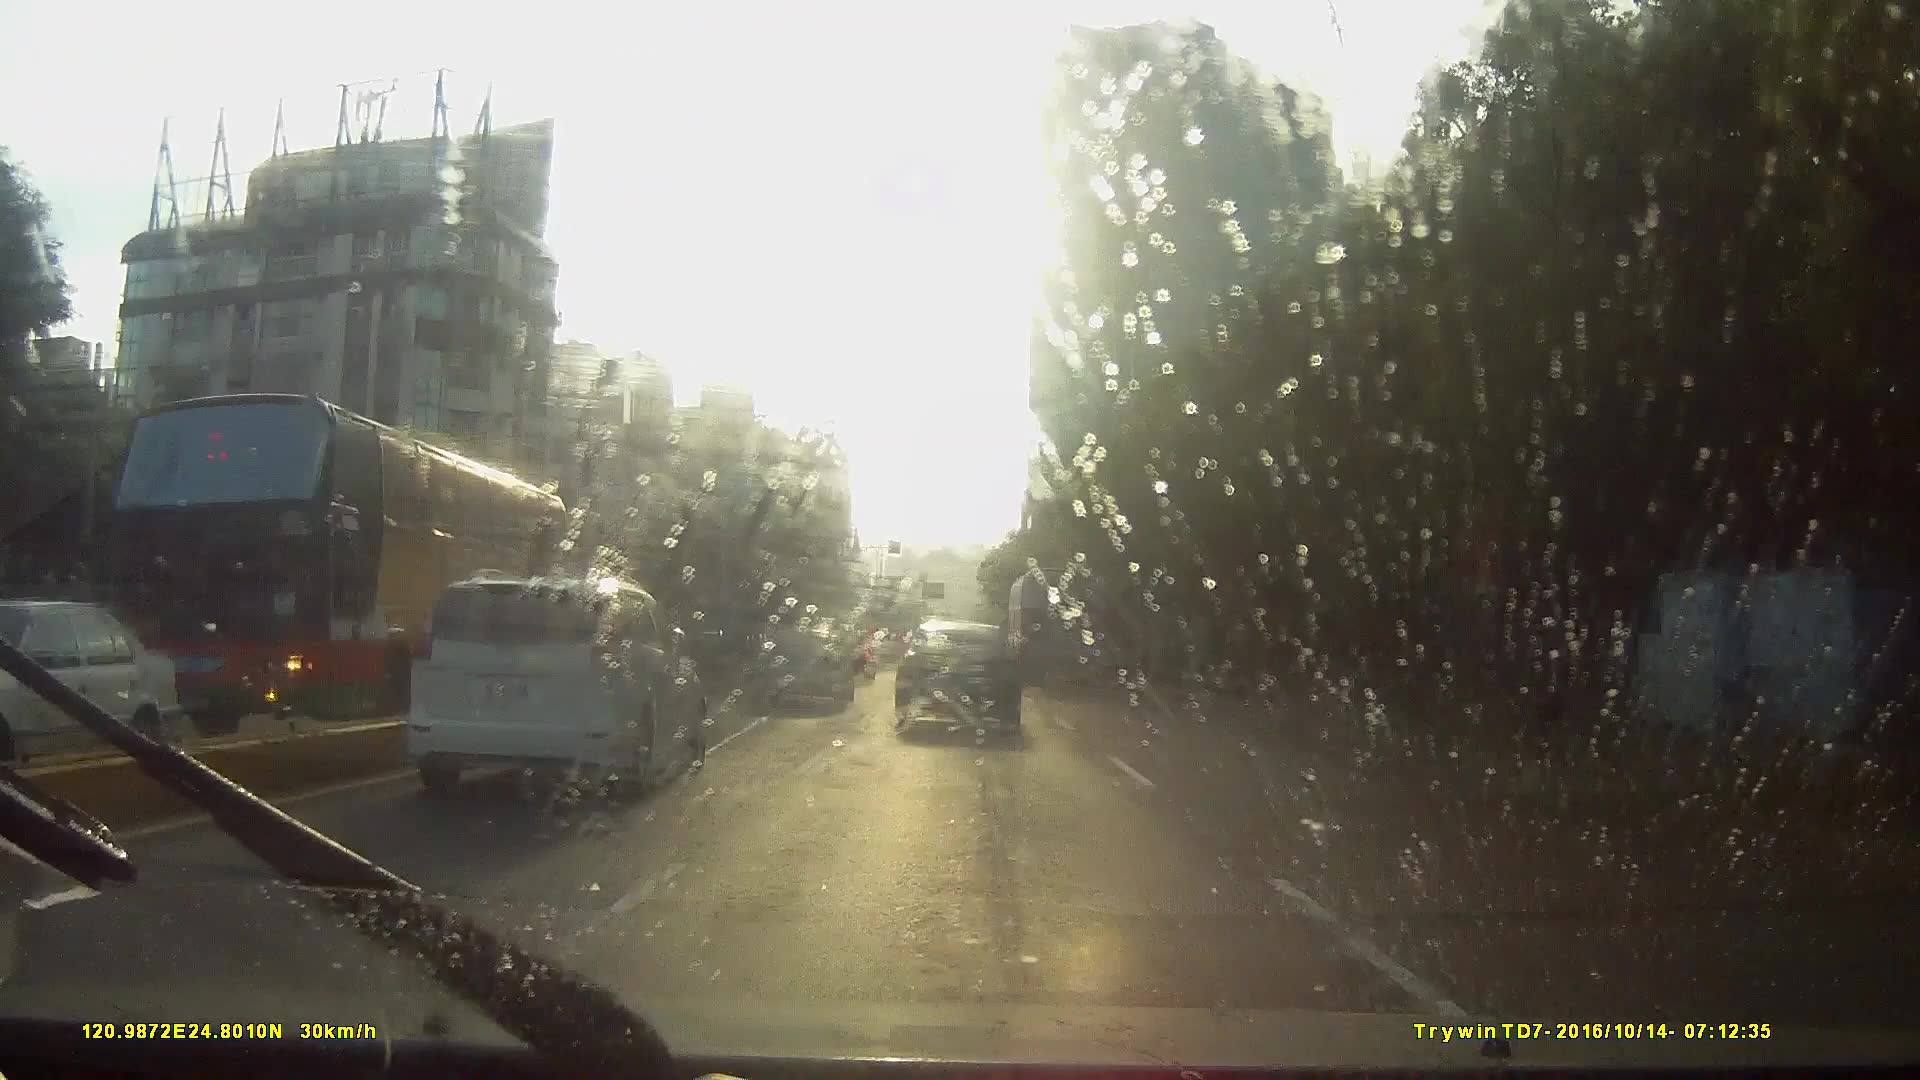vehicle: (87, 382, 604, 742), (251, 556, 684, 868), (407, 574, 708, 802), (0, 597, 128, 775), (894, 621, 1023, 738), (1006, 566, 1112, 692), (746, 629, 855, 716), (866, 638, 915, 687)
